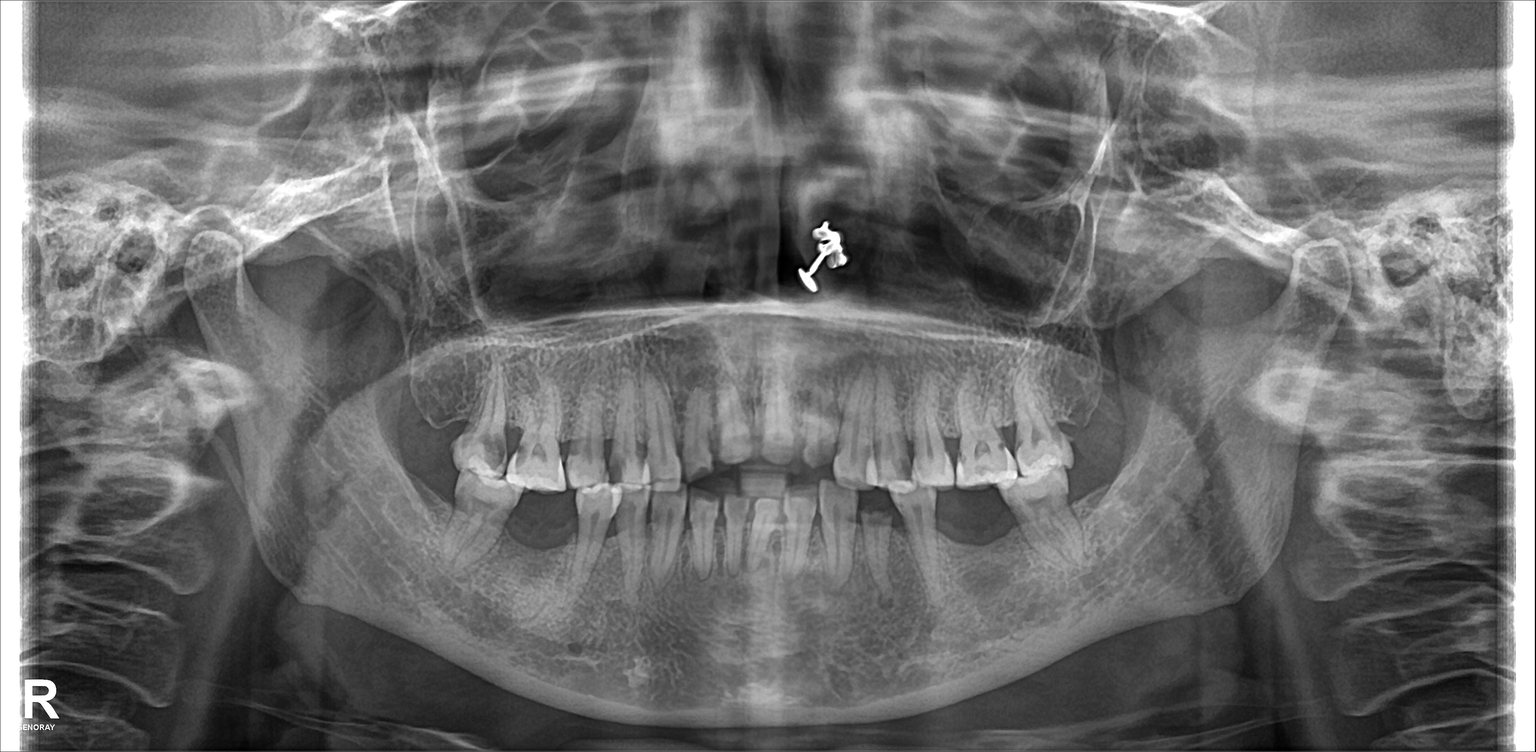Dental Caries: (480, 434, 505, 469), (967, 441, 989, 457)
Missing Tooth: (397, 456, 453, 554), (514, 493, 571, 584), (1067, 370, 1114, 463), (402, 359, 451, 435), (942, 493, 983, 576), (1080, 469, 1114, 557), (987, 499, 1024, 579)
